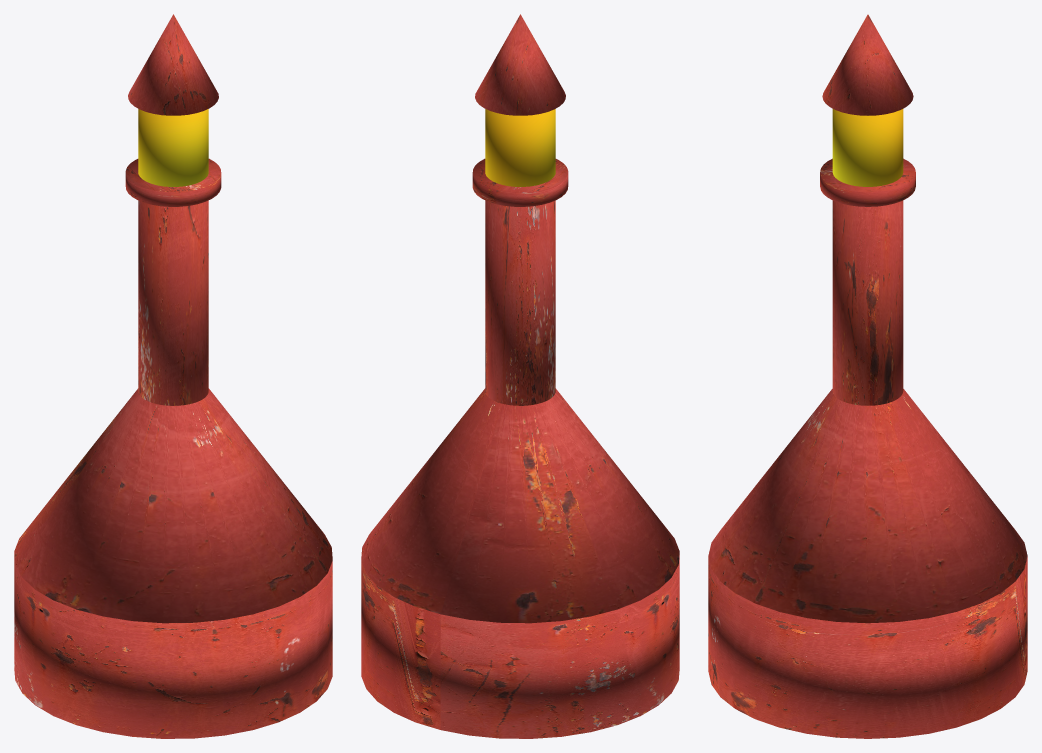
Rendered from czerwona Boja morska.fbx.
3 views of the same model, side by side, from view 1: azimuth 30°, elevation 25°; view 2: azimuth 150°, elevation 25°; view 3: azimuth 270°, elevation 25° (orthographic).
Parts seen in each view (by area): view 1: Cylinder.001, Cylinder, Cylinder.002, Cone, Cylinder.004, Cylinder.003; view 2: Cylinder.001, Cylinder, Cylinder.002, Cone, Cylinder.004, Cylinder.003; view 3: Cylinder.001, Cylinder, Cylinder.002, Cone, Cylinder.004, Cylinder.003.
Part boxes in pixels (bbox=[...]): Cylinder.001: bbox=[14, 388, 332, 623]; Cylinder: bbox=[14, 555, 332, 738]; Cylinder.002: bbox=[138, 200, 208, 405]; Cone: bbox=[128, 14, 218, 115]; Cylinder.004: bbox=[138, 109, 208, 186]; Cylinder.003: bbox=[125, 158, 221, 206]; Cylinder.001: bbox=[361, 388, 679, 623]; Cylinder: bbox=[361, 555, 679, 738]; Cylinder.002: bbox=[485, 200, 555, 405]; Cone: bbox=[475, 14, 565, 115]; Cylinder.004: bbox=[485, 109, 555, 186]; Cylinder.003: bbox=[472, 158, 568, 206]; Cylinder.001: bbox=[708, 389, 1027, 623]; Cylinder: bbox=[708, 556, 1027, 738]; Cylinder.002: bbox=[832, 200, 903, 405]; Cone: bbox=[822, 14, 913, 115]; Cylinder.004: bbox=[832, 109, 903, 186]; Cylinder.003: bbox=[820, 158, 915, 206].
Size of the model in its own units: 200 by 455 by 200.
Materials: 2 (2 with a texture image).
